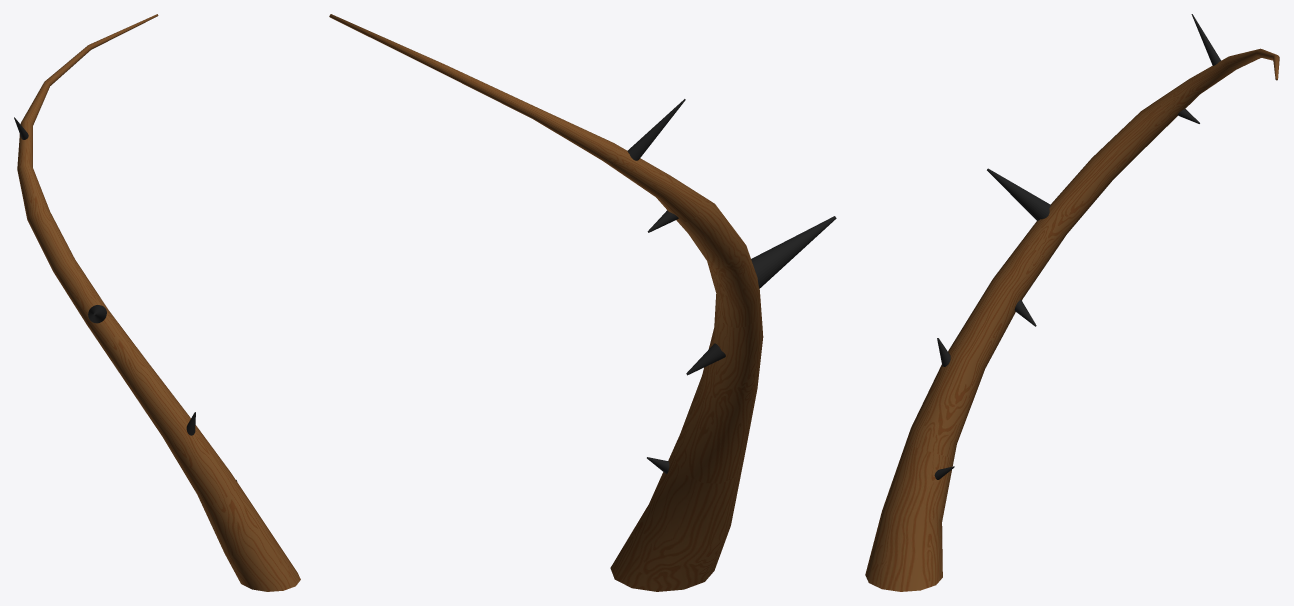
The model's file is Spike_4.fbx.
The picture shows the model from 3 angles, left to right: view 1: azimuth 30°, elevation 25°; view 2: azimuth 150°, elevation 25°; view 3: azimuth 270°, elevation 25°; orthographic projection. The views are drawn at different scales.
Parts seen in each view (by area): view 1: Spikes_4; view 2: Spikes_4; view 3: Spikes_4.
Part boxes in pixels (box(x1,y1,x2,y2)): Spikes_4: box(14, 14, 300, 591); Spikes_4: box(329, 14, 836, 591); Spikes_4: box(865, 14, 1279, 591).
Size of the model in its own units: 41.55 by 94.18 by 67.49.
